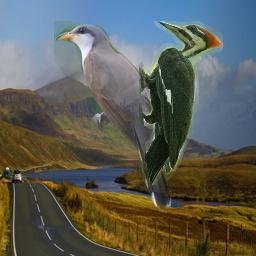Cuckoo: (54, 21, 176, 213)
Woodpecker: (139, 21, 223, 185)
